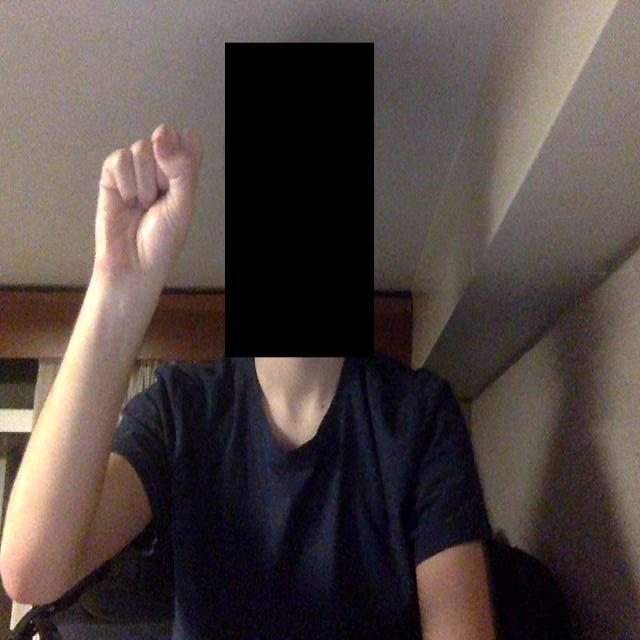S: (83, 107, 228, 357)
